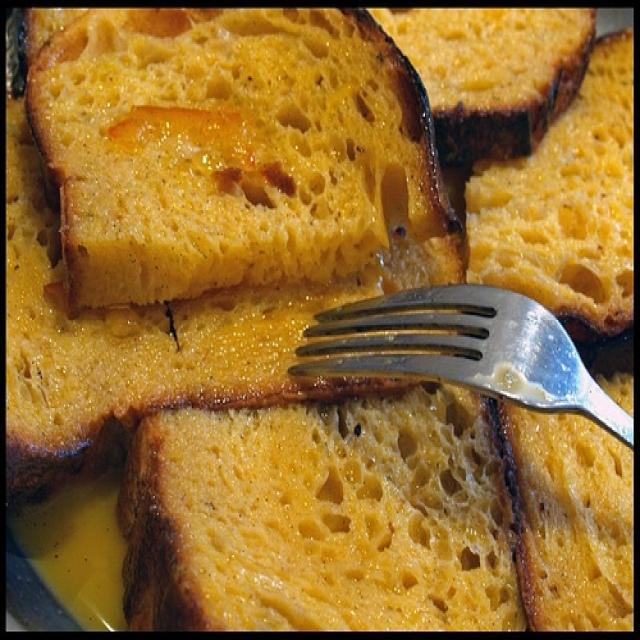面包点心: (18, 24, 626, 613)
